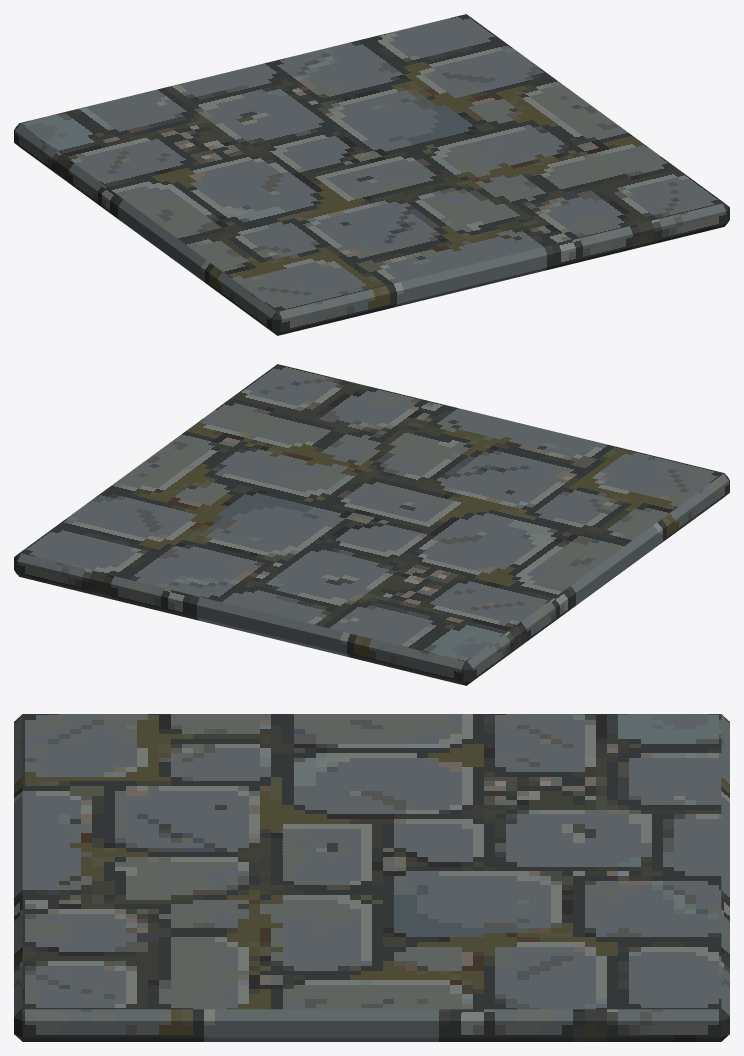
File: topo_a.glb
3 renders of one model, top to bottom at view 1: azimuth 30°, elevation 25°; view 2: azimuth 150°, elevation 25°; view 3: azimuth 270°, elevation 25°, orthographic. The views are drawn at different scales.
Visible parts, largest first — view 1: pedreira_topo_a; view 2: pedreira_topo_a; view 3: pedreira_topo_a.
Part boxes in pixels (x1,y1,x2,y2): pedreira_topo_a: (14,14,729,335); pedreira_topo_a: (14,364,729,685); pedreira_topo_a: (14,714,729,1041).
Bounding box in the file's own units: 1 × 0.05 × 1.
Materials: 1 (1 with a texture image).
